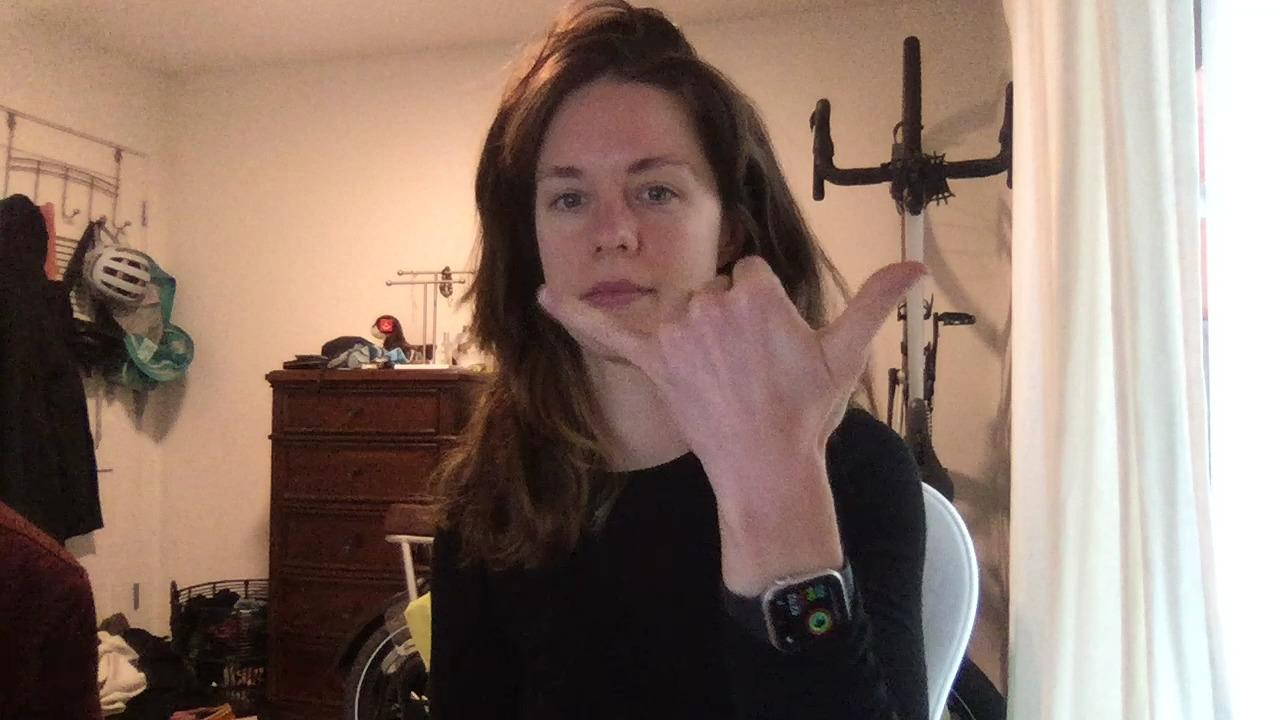face: (535, 103, 724, 365)
